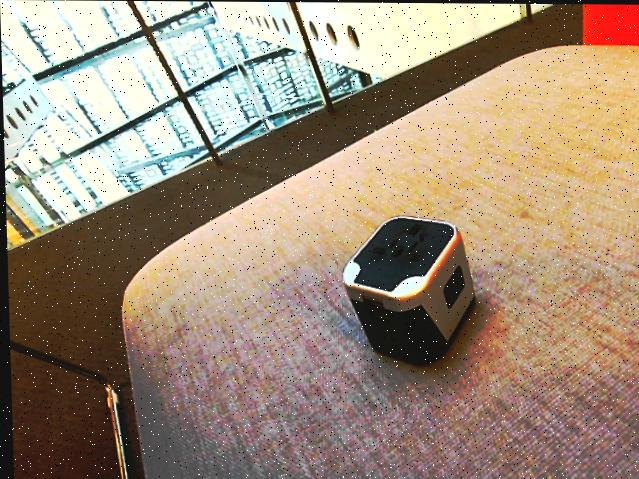adapter: (339, 213, 476, 365)
